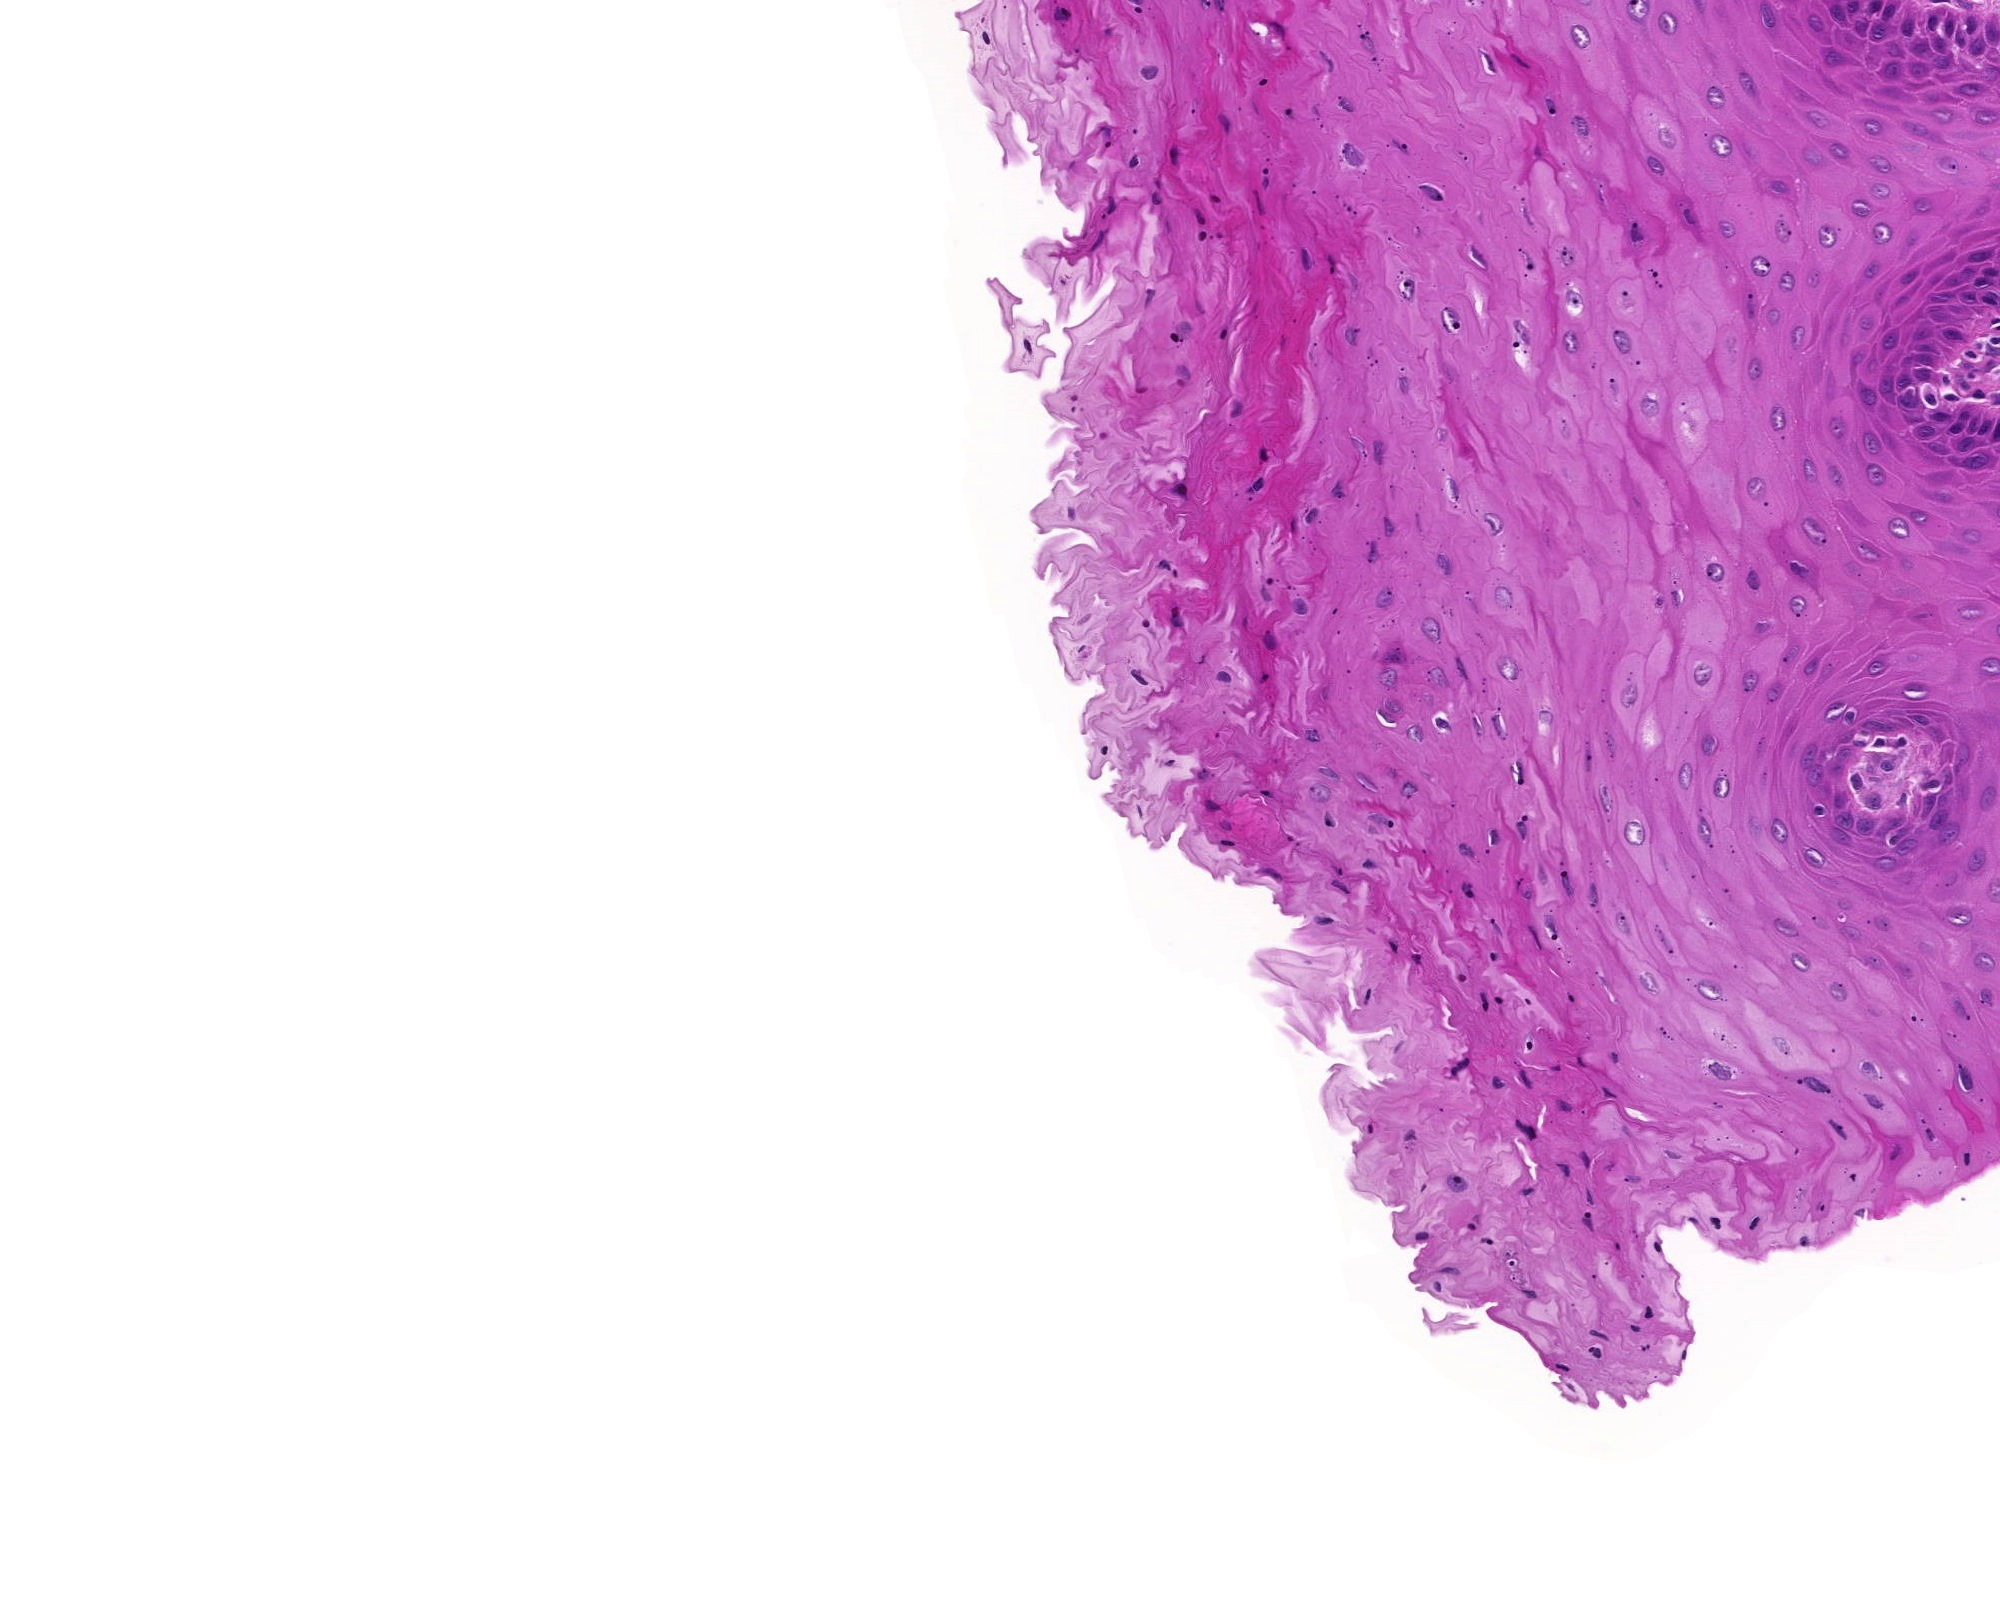epithelial: (1939, 424, 1974, 457), (1891, 706, 1926, 739), (1387, 368, 1420, 401), (1337, 265, 1370, 298), (1050, 237, 1083, 270), (1250, 777, 1283, 810), (1378, 640, 1411, 673), (1939, 412, 1972, 445), (1903, 31, 1936, 64), (1955, 445, 1988, 478), (1923, 397, 1955, 430), (1862, 15, 1894, 48), (1923, 26, 1955, 59), (1954, 435, 1987, 468), (1932, 10, 1965, 43), (1891, 261, 1924, 294), (1964, 275, 1997, 308), (1941, 435, 1974, 468), (1962, 429, 1995, 462), (1964, 251, 1997, 284), (1833, 20, 1866, 53), (1937, 49, 1970, 82), (1759, 402, 1792, 435), (1866, 25, 1899, 58), (1936, 397, 1969, 430), (1926, 322, 1959, 355), (1885, 18, 1918, 51), (1947, 61, 1980, 94), (1936, 298, 1969, 331), (1698, 78, 1731, 110), (1891, 374, 1924, 407), (1947, 391, 1980, 424), (1952, 419, 1985, 452), (1797, 261, 1830, 294), (1909, 265, 1942, 298), (1842, 7, 1875, 40), (1870, 711, 1903, 744), (1825, 820, 1858, 853), (1916, 795, 1949, 828), (1796, 843, 1829, 876), (1820, 750, 1853, 783), (1931, 810, 1964, 843), (1904, 599, 1937, 632), (1898, 669, 1931, 702), (1731, 669, 1764, 702), (1891, 828, 1924, 861), (1927, 821, 1960, 854), (1843, 717, 1876, 750), (1829, 716, 1862, 749), (1809, 773, 1842, 806), (1876, 833, 1909, 866), (1870, 824, 1903, 857), (1588, 783, 1621, 816), (1832, 915, 1865, 948), (1898, 821, 1931, 854), (1947, 727, 1980, 760), (1914, 707, 1946, 742), (1209, 107, 1242, 139), (1336, 317, 1367, 350), (1167, 359, 1199, 392), (1266, 325, 1299, 356), (1243, 190, 1275, 223), (1238, 294, 1271, 325), (1449, 434, 1482, 465), (1124, 371, 1156, 404), (1153, 209, 1184, 242), (1433, 356, 1464, 389), (1253, 627, 1286, 658), (1308, 676, 1340, 707), (1369, 580, 1401, 612), (1185, 759, 1218, 790), (1373, 693, 1405, 726), (1392, 770, 1425, 801), (1248, 660, 1279, 693), (1284, 590, 1316, 623), (1349, 765, 1382, 796), (1375, 661, 1406, 694), (1401, 716, 1433, 749), (1891, 384, 1923, 417), (1888, 364, 1919, 397), (1952, 280, 1985, 312), (1909, 341, 1942, 373), (1927, 46, 1960, 78), (1852, 12, 1885, 43), (1965, 411, 1997, 444), (1936, 318, 1967, 351), (1964, 262, 1997, 294), (1891, 12, 1923, 45), (1947, 402, 1979, 435), (1906, 359, 1939, 391), (1852, 378, 1883, 411), (1913, 383, 1946, 414), (1875, 323, 1906, 356), (1899, 46, 1932, 78), (1875, 53, 1906, 86), (1944, 23, 1975, 56), (1819, 41, 1852, 73), (1955, 407, 1987, 440), (1921, 432, 1952, 465), (1955, 269, 1987, 302), (1916, 407, 1947, 440), (1896, 402, 1927, 435), (1875, 13, 1908, 45), (1914, 5, 1946, 38), (1880, 33, 1911, 66), (1843, 16, 1876, 48), (1946, 261, 1977, 294), (1822, 411, 1853, 444), (1921, 297, 1952, 330), (1893, 35, 1926, 66), (1964, 439, 1995, 472), (1911, 331, 1942, 364), (1916, 392, 1947, 425), (1914, 33, 1947, 64), (1941, 445, 1972, 478), (1739, 353, 1772, 384), (1914, 53, 1947, 84), (1876, 64, 1908, 97), (1853, 424, 1886, 455), (1929, 36, 1962, 68), (1853, 254, 1886, 285), (1951, 242, 1984, 274), (1904, 54, 1936, 87), (1937, 279, 1969, 312), (1822, 134, 1853, 167), (1946, 290, 1979, 322), (1880, 45, 1913, 76), (1871, 359, 1904, 391), (1932, 406, 1964, 439), (1857, 109, 1888, 142), (1639, 148, 1670, 181), (1820, 458, 1852, 491), (1932, 241, 1964, 274), (1791, 450, 1824, 482), (1845, 195, 1876, 228), (1918, 82, 1951, 114), (1866, 427, 1899, 458), (1840, 341, 1871, 374), (1565, 109, 1596, 142), (1946, 74, 1977, 107), (1919, 284, 1951, 317), (1876, 379, 1908, 412), (1955, 233, 1988, 264), (1903, 261, 1936, 292), (1901, 381, 1934, 412), (1965, 97, 1998, 129), (1556, 323, 1588, 356), (1779, 318, 1810, 351), (1893, 59, 1926, 91), (1908, 25, 1941, 56), (1919, 341, 1952, 373), (1939, 16, 1972, 48), (1863, 218, 1894, 251), (1931, 292, 1964, 323), (1812, 2, 1843, 35), (1769, 214, 1800, 247), (1964, 397, 1995, 430), (1865, 379, 1898, 411), (1908, 298, 1941, 330), (1932, 453, 1964, 486), (1903, 335, 1934, 368), (1865, 150, 1898, 181), (1878, 430, 1909, 463), (1931, 430, 1964, 462), (1736, 468, 1769, 500), (1796, 143, 1829, 175), (1848, 810, 1881, 841), (1914, 778, 1946, 811), (1853, 709, 1886, 740), (1881, 826, 1914, 857), (1960, 844, 1993, 876), (1833, 701, 1865, 734), (1794, 739, 1825, 772), (1833, 724, 1866, 755), (1914, 768, 1947, 800), (1876, 818, 1909, 849), (1862, 716, 1893, 749), (1919, 717, 1952, 749), (1870, 811, 1901, 844), (1932, 762, 1964, 795), (1883, 796, 1914, 829), (1827, 693, 1858, 726), (1857, 534, 1888, 567), (1964, 943, 1997, 975), (1843, 727, 1875, 760), (1800, 760, 1833, 792), (1744, 612, 1777, 643), (1909, 788, 1941, 821), (1886, 815, 1918, 848), (1772, 712, 1804, 745), (1820, 699, 1852, 732), (1899, 683, 1931, 716), (1759, 811, 1792, 843), (1784, 943, 1815, 976), (1845, 707, 1876, 740), (1946, 775, 1979, 806), (1820, 795, 1853, 826), (1703, 770, 1735, 803), (1771, 641, 1804, 673), (1862, 816, 1893, 849), (1937, 755, 1970, 787), (1875, 702, 1908, 734), (1687, 810, 1720, 841), (1804, 524, 1837, 556), (1929, 800, 1962, 831), (1594, 727, 1626, 760), (1222, 394, 1253, 425), (1060, 35, 1092, 66), (1228, 604, 1260, 635), (1296, 719, 1327, 750), (1430, 549, 1461, 580), (1425, 663, 1456, 694), (1436, 1003, 1467, 1034), (1911, 416, 1942, 447), (1957, 73, 1988, 104), (1871, 373, 1903, 404), (1955, 257, 1987, 289), (1937, 265, 1969, 297), (1927, 280, 1959, 312), (1960, 31, 1992, 63), (1906, 318, 1937, 350), (1799, 8, 1830, 40), (1899, 343, 1931, 374), (1904, 190, 1936, 221), (1886, 284, 1918, 315), (1860, 457, 1891, 488), (1850, 308, 1881, 340), (1923, 414, 1954, 445), (1909, 369, 1941, 401), (1923, 462, 1954, 493), (1919, 264, 1951, 295), (1754, 5, 1786, 36), (1891, 272, 1923, 303), (1899, 391, 1931, 422), (1909, 425, 1941, 457), (1891, 350, 1923, 381), (1771, 265, 1802, 297), (1969, 285, 2000, 317), (1908, 404, 1939, 435), (1817, 31, 1848, 63), (1710, 214, 1741, 246), (1810, 219, 1842, 251), (1904, 350, 1936, 381), (1870, 397, 1901, 429), (1733, 294, 1764, 325), (1955, 219, 1987, 251), (1855, 41, 1886, 73), (1632, 386, 1664, 417), (1522, 135, 1553, 167), (1932, 310, 1964, 341), (1758, 300, 1789, 331), (1899, 7, 1931, 38), (1904, 702, 1936, 734), (1860, 650, 1891, 681), (1802, 795, 1833, 826), (1822, 783, 1853, 815), (1759, 676, 1791, 707), (1796, 650, 1827, 681), (1946, 899, 1977, 930), (1901, 498, 1932, 529), (1921, 785, 1952, 816), (1829, 737, 1860, 768), (1820, 689, 1852, 721), (1796, 750, 1827, 782), (1888, 953, 1919, 984), (1947, 740, 1979, 772), (1866, 909, 1898, 940), (1779, 590, 1810, 622), (1913, 803, 1944, 834), (1766, 909, 1797, 940), (1799, 510, 1830, 541), (1857, 945, 1888, 976), (1929, 777, 1960, 808), (1805, 739, 1837, 770), (1499, 656, 1530, 688), (1936, 866, 1967, 897), (1880, 1138, 1911, 1169), (1494, 1243, 1525, 1275), (1946, 994, 1977, 1026), (1416, 617, 1449, 646), (1951, 429, 1980, 462), (1875, 74, 1904, 107), (1820, 0, 1853, 30), (1947, 33, 1980, 63), (1964, 81, 1993, 114), (1898, 68, 1931, 97), (1881, 373, 1914, 402), (1898, 114, 1931, 143), (1829, 806, 1858, 839), (1923, 805, 1952, 838), (1866, 848, 1899, 877), (1316, 759, 1347, 788), (1965, 241, 1997, 270), (1763, 171, 1794, 201), (1896, 20, 1927, 49), (1926, 59, 1955, 91), (1923, 251, 1954, 280), (1870, 5, 1899, 36), (1959, 289, 1988, 320), (1880, 806, 1909, 838), (1692, 729, 1721, 760), (1944, 749, 1975, 778), (1883, 711, 1914, 740), (1824, 973, 1853, 1004), (1969, 782, 2000, 811), (1955, 594, 1987, 623)
fibroblast and endothelial: (1184, 203, 1217, 236), (1116, 147, 1149, 180), (1246, 439, 1279, 472), (1261, 12, 1294, 45), (1289, 242, 1322, 275), (1349, 20, 1382, 53), (1387, 130, 1420, 163), (1321, 473, 1354, 506), (1331, 134, 1364, 167), (1250, 158, 1283, 191), (1141, 167, 1174, 200), (1166, 313, 1199, 346), (1243, 449, 1276, 482), (1337, 142, 1370, 175), (1157, 600, 1190, 633), (1256, 857, 1289, 890), (1444, 651, 1477, 684), (1400, 942, 1433, 975), (1372, 806, 1405, 839), (1153, 745, 1185, 778), (1444, 1049, 1477, 1082), (1354, 1111, 1387, 1144), (1421, 1270, 1454, 1303), (1438, 1055, 1471, 1088), (1955, 355, 1988, 388), (1504, 45, 1537, 78), (1550, 237, 1583, 270), (1561, 16, 1594, 49), (1951, 346, 1984, 379), (1964, 350, 1997, 383), (1504, 762, 1537, 795), (1505, 808, 1538, 841), (1857, 783, 1890, 816), (1571, 740, 1604, 773), (1781, 552, 1814, 585), (1576, 876, 1609, 909), (1532, 922, 1565, 955), (1865, 740, 1898, 773), (1510, 877, 1543, 910), (1687, 661, 1720, 694), (1514, 1115, 1547, 1148), (1581, 1318, 1614, 1351), (1580, 1336, 1613, 1369), (1548, 1153, 1581, 1186), (1570, 1143, 1603, 1176), (1951, 1141, 1984, 1174), (1514, 1276, 1547, 1309), (1598, 1041, 1631, 1073), (1858, 1087, 1891, 1120), (1913, 1116, 1946, 1149), (1702, 1054, 1735, 1087), (1852, 1050, 1885, 1083), (1898, 1003, 1931, 1036), (1782, 1064, 1815, 1097), (969, 21, 1002, 53), (1164, 472, 1195, 505), (1421, 180, 1453, 213), (1095, 191, 1128, 223), (1185, 214, 1218, 246), (1159, 322, 1190, 355), (1139, 181, 1171, 214), (1083, 223, 1116, 254), (1392, 269, 1425, 300), (1207, 317, 1240, 348), (1316, 246, 1347, 279), (1462, 239, 1494, 272), (1411, 173, 1444, 204), (1088, 114, 1121, 145), (1246, 64, 1278, 97), (1133, 279, 1166, 310), (1362, 435, 1395, 467), (1199, 183, 1232, 214), (1472, 45, 1504, 78), (1078, 229, 1110, 262), (1312, 45, 1344, 78), (1439, 472, 1471, 505), (1072, 221, 1105, 252), (1210, 828, 1243, 859), (1309, 904, 1340, 937), (1377, 930, 1410, 961), (1088, 734, 1120, 767), (1425, 707, 1458, 739), (1312, 806, 1345, 838), (1195, 788, 1227, 821), (1207, 660, 1238, 693), (1129, 607, 1161, 640), (1451, 834, 1482, 867), (1251, 571, 1283, 604), (1352, 848, 1383, 881), (1372, 510, 1405, 541), (1355, 538, 1388, 569), (1322, 856, 1355, 887), (1350, 976, 1383, 1008), (1467, 976, 1500, 1008), (1055, 496, 1087, 529), (1362, 803, 1395, 834), (1273, 823, 1304, 856), (1461, 709, 1494, 740), (1405, 1220, 1438, 1252), (1441, 1164, 1472, 1197), (1458, 1209, 1491, 1240), (1395, 1120, 1426, 1153), (1471, 1224, 1502, 1257), (1955, 338, 1988, 369), (1962, 376, 1993, 409), (1929, 363, 1960, 396), (1619, 216, 1650, 249), (1947, 368, 1980, 399), (1514, 249, 1547, 280), (1931, 374, 1964, 406), (1639, 257, 1670, 290), (1672, 200, 1703, 233), (1941, 373, 1974, 404), (1649, 8, 1682, 40), (1558, 284, 1591, 315), (1505, 317, 1537, 350), (1955, 25, 1987, 58), (1730, 61, 1763, 92), (1604, 328, 1637, 359), (1944, 322, 1975, 355), (1548, 859, 1580, 892), (1880, 726, 1911, 759), (1537, 914, 1568, 947), (1871, 749, 1903, 782), (1840, 763, 1871, 796), (1886, 782, 1918, 815), (1520, 927, 1553, 958), (1552, 872, 1585, 904), (1655, 580, 1687, 613), (1644, 584, 1675, 617), (1527, 909, 1560, 940), (1876, 787, 1909, 818), (1805, 1070, 1837, 1103), (1822, 1111, 1853, 1144), (1700, 1205, 1731, 1238), (1545, 1352, 1578, 1383), (1738, 1207, 1771, 1238), (1787, 1225, 1820, 1257), (1641, 1230, 1674, 1261), (1504, 1110, 1537, 1141), (1792, 1067, 1825, 1098), (1571, 1189, 1604, 1220), (1510, 1176, 1543, 1207), (1682, 1204, 1713, 1237), (1548, 1090, 1581, 1121), (1837, 1159, 1868, 1192), (1593, 1077, 1626, 1108), (1629, 1331, 1660, 1364), (1843, 1196, 1876, 1227), (1667, 1337, 1698, 1370), (1805, 1191, 1837, 1224), (1627, 1304, 1659, 1337), (1655, 1138, 1687, 1171), (1890, 726, 1924, 755), (1012, 330, 1044, 361), (1242, 468, 1273, 500), (1157, 137, 1189, 168), (1439, 308, 1471, 340), (1133, 56, 1164, 87), (1329, 89, 1360, 120), (1273, 97, 1304, 129), (1092, 124, 1123, 155), (1092, 16, 1123, 48), (1123, 661, 1154, 693), (1149, 549, 1181, 580), (1324, 871, 1355, 902), (1453, 876, 1484, 907), (1296, 500, 1327, 531), (1210, 811, 1242, 843), (1157, 556, 1189, 587), (1377, 757, 1408, 788), (1433, 1253, 1464, 1285), (1955, 12, 1987, 43), (1537, 92, 1568, 124), (1937, 381, 1969, 412), (1947, 379, 1979, 411), (1748, 251, 1779, 282), (1603, 318, 1634, 350), (1735, 69, 1766, 101), (1919, 20, 1951, 51), (1733, 282, 1764, 313), (1695, 556, 1726, 587), (1565, 876, 1596, 907), (1505, 869, 1537, 900), (1606, 904, 1637, 935), (1949, 1060, 1980, 1092), (1571, 1202, 1603, 1233), (1619, 1311, 1650, 1342), (1563, 1045, 1594, 1077), (1601, 1230, 1632, 1261), (1614, 1163, 1646, 1194), (1952, 1069, 1984, 1100), (1947, 1050, 1979, 1082), (1962, 20, 1992, 53), (1970, 12, 2000, 45), (1519, 915, 1548, 948), (1736, 566, 1769, 595), (1509, 1064, 1542, 1093), (1514, 1027, 1543, 1060), (1433, 302, 1464, 331), (1047, 0, 1078, 30), (1278, 510, 1308, 541), (1185, 645, 1217, 674), (1926, 381, 1955, 412), (1504, 754, 1535, 783), (1632, 1298, 1664, 1327), (1487, 1065, 1515, 1098)
lymphocyte: (1499, 326, 1532, 359), (1852, 800, 1885, 833), (1865, 726, 1896, 759), (1555, 976, 1588, 1008), (1540, 1050, 1571, 1083), (1446, 961, 1477, 993), (1474, 938, 1504, 971)
